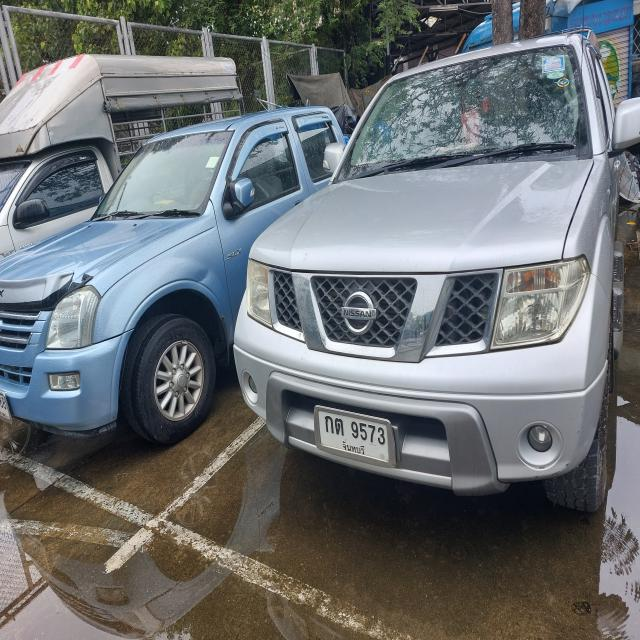license_plate: (313, 402, 398, 472)
